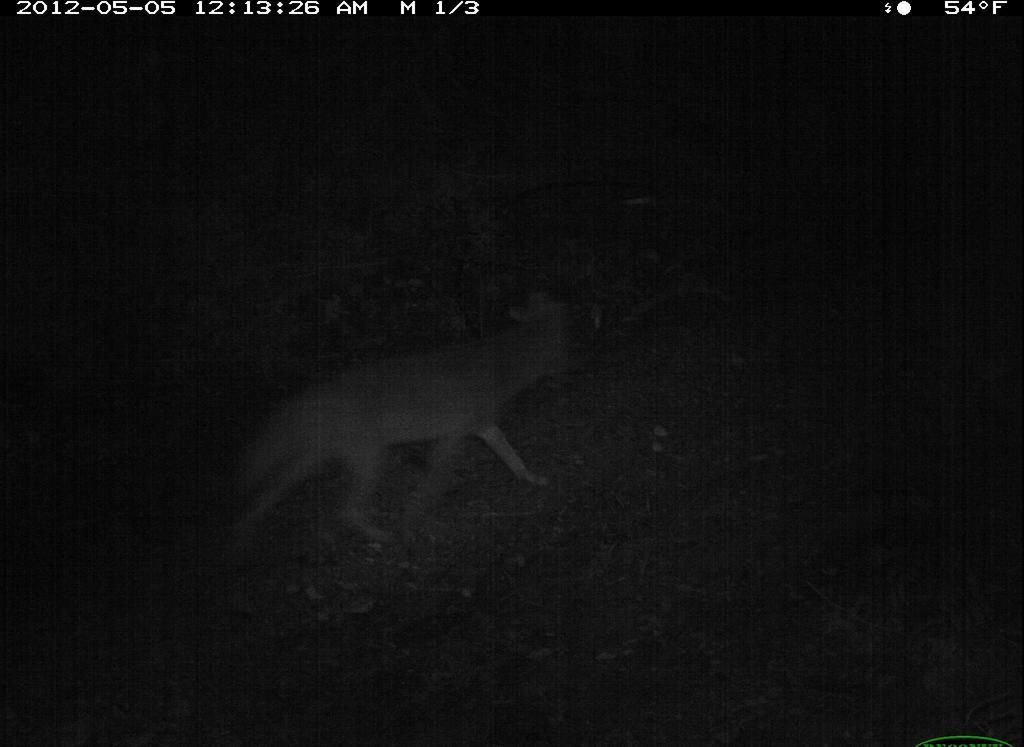coyote: (216, 291, 582, 562)
